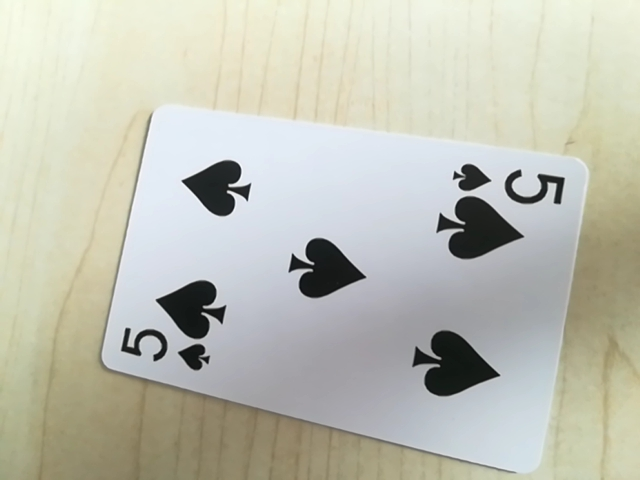ht 5: (452, 159, 568, 205), (115, 326, 221, 374)
